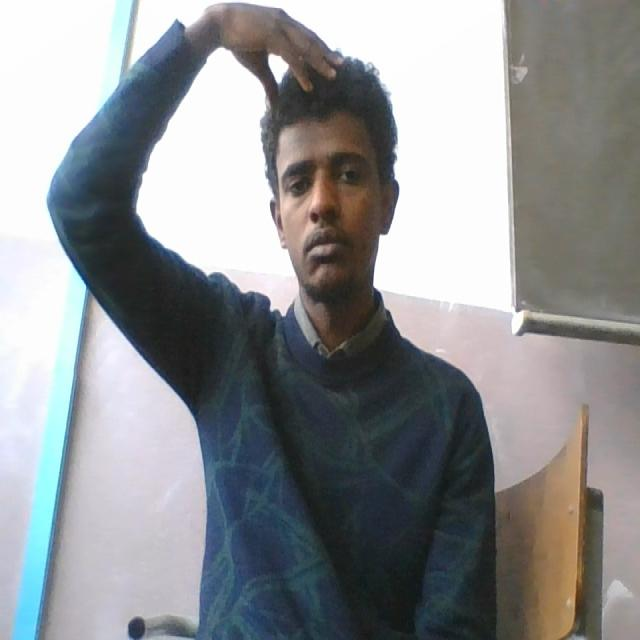mengist: (234, 0, 410, 164)
